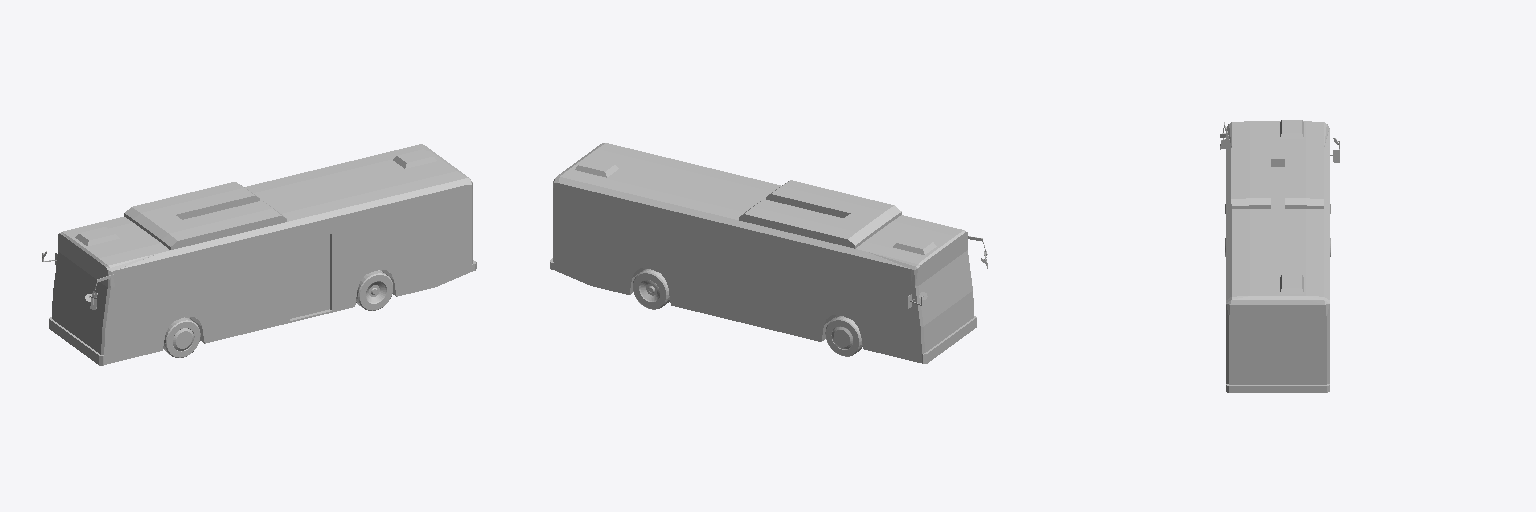
File: bus1.obj
The picture shows the model from 3 angles: view 1: azimuth 30°, elevation 25°; view 2: azimuth 150°, elevation 25°; view 3: azimuth 270°, elevation 25°; orthographic projection.
Visible parts, largest first — view 1: Cube.002; view 2: Cube.002; view 3: Cube.002.
Boxes of the visible parts, <box> form: Cube.002: <box>42,144,476,365</box>; Cube.002: <box>550,143,987,363</box>; Cube.002: <box>1220,120,1339,392</box>.
Size of the model in its own units: 10.88 by 3.11 by 2.9.